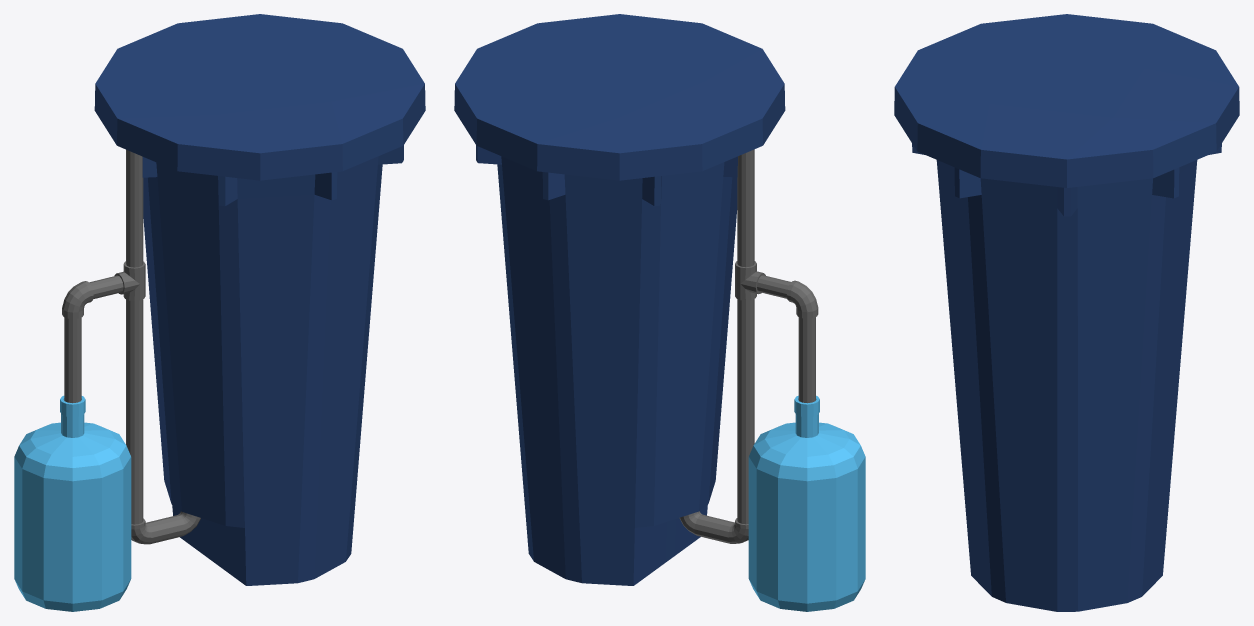
Rendered from BiosandFilter.fbx.
3 views of the same model, side by side, from view 1: azimuth 30°, elevation 25°; view 2: azimuth 150°, elevation 25°; view 3: azimuth 270°, elevation 25° (orthographic). The views are drawn at different scales.
Visible parts, largest first — view 1: Biosand Filter, Biosand Filter Lid, Biosand Filter Jug, Biosand Filter Pipes; view 2: Biosand Filter, Biosand Filter Lid, Biosand Filter Jug, Biosand Filter Pipes; view 3: Biosand Filter, Biosand Filter Lid.
Part boxes in pixels (x1=…): Biosand Filter: x1=142, y1=145, x2=403, y2=585; Biosand Filter Lid: x1=94, y1=14, x2=425, y2=180; Biosand Filter Jug: x1=14, y1=395, x2=131, y2=611; Biosand Filter Pipes: x1=62, y1=149, x2=200, y2=544; Biosand Filter: x1=476, y1=145, x2=737, y2=585; Biosand Filter Lid: x1=454, y1=14, x2=785, y2=180; Biosand Filter Jug: x1=748, y1=395, x2=865, y2=611; Biosand Filter Pipes: x1=679, y1=149, x2=818, y2=543; Biosand Filter: x1=912, y1=143, x2=1221, y2=611; Biosand Filter Lid: x1=894, y1=14, x2=1239, y2=187.
Size of the model in its own units: 1.24 by 0.9333 by 1.45.
